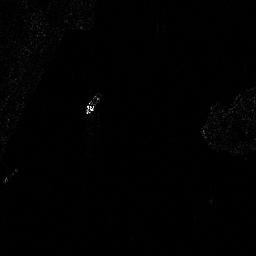ship: (86, 93, 100, 114)
